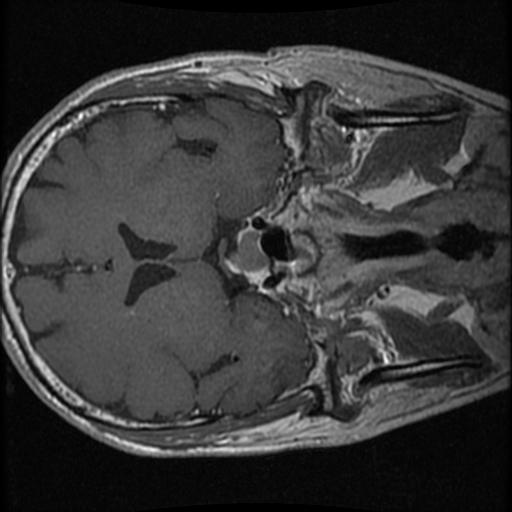pituitary tumour: (227, 230, 268, 278)
